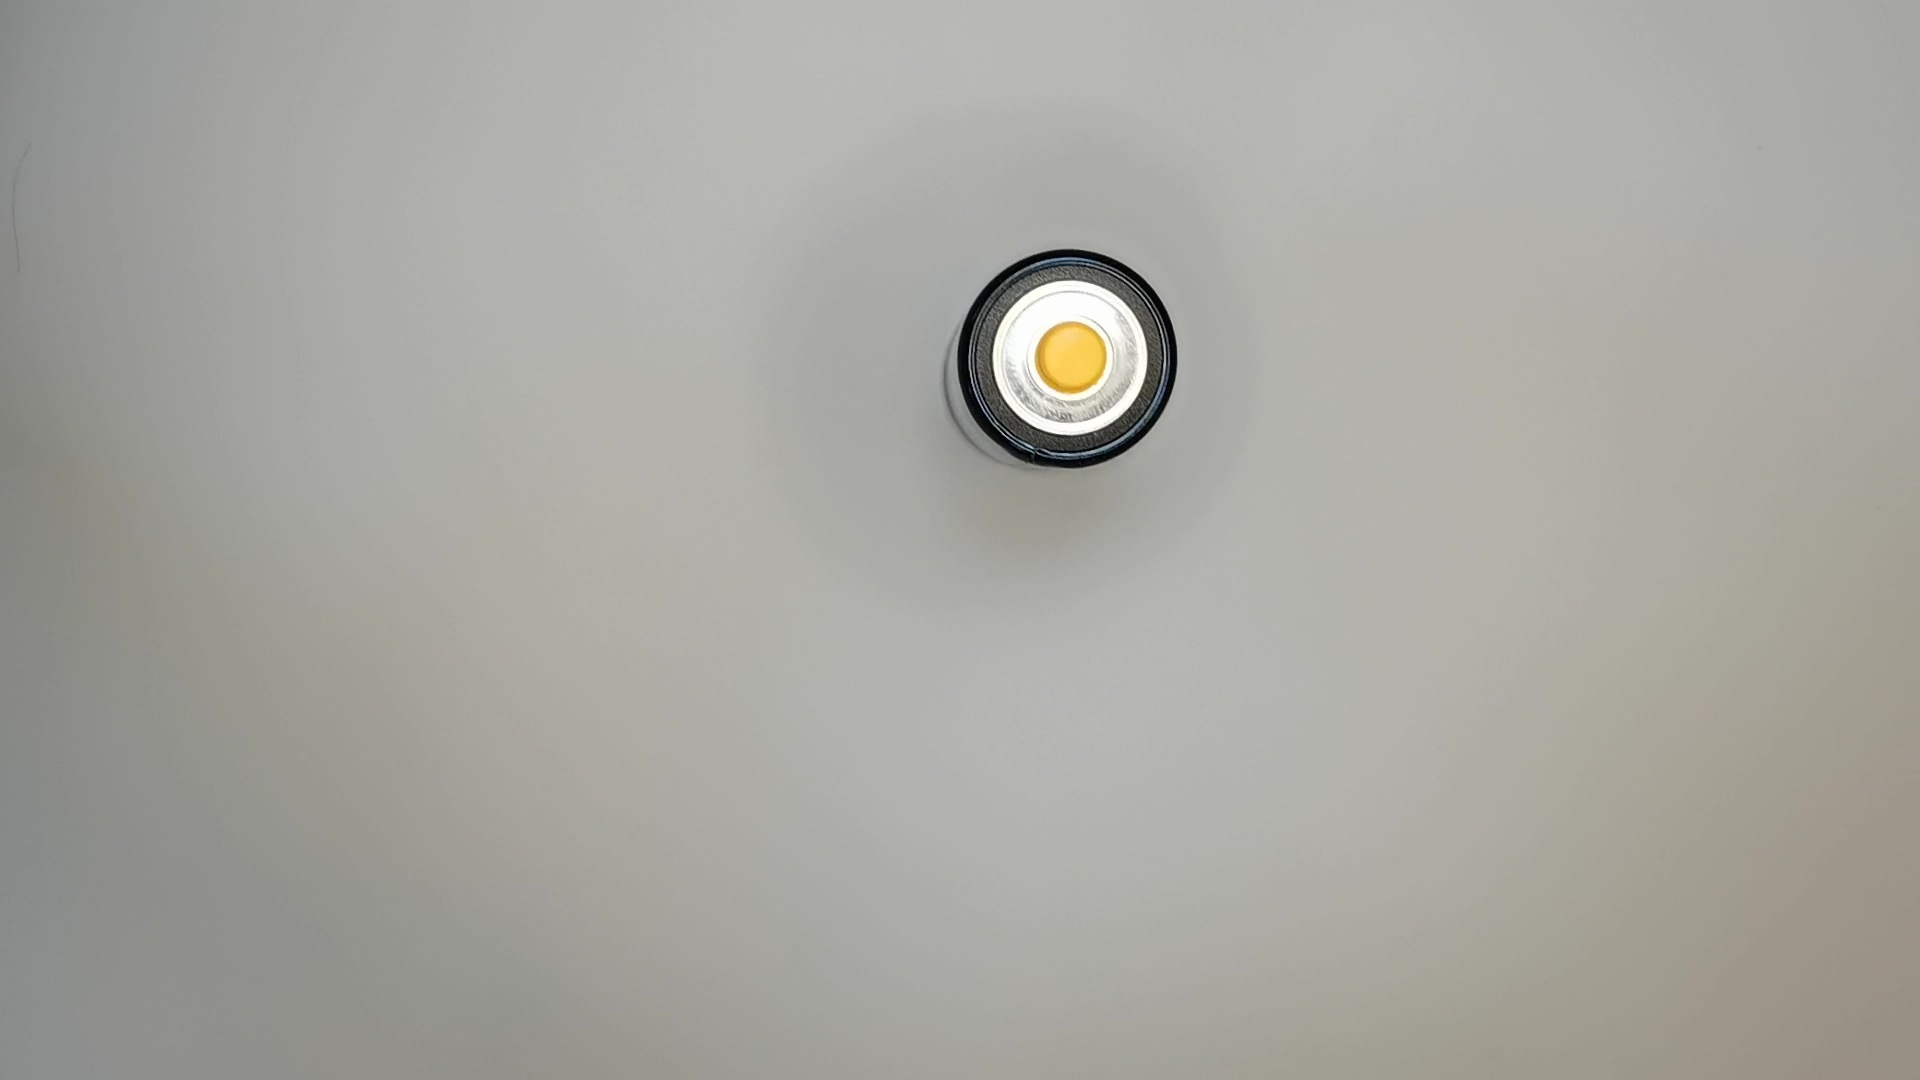battery: (934, 248, 1182, 477)
